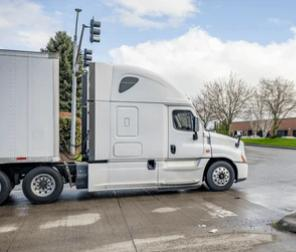vehicle: (0, 49, 248, 204)
